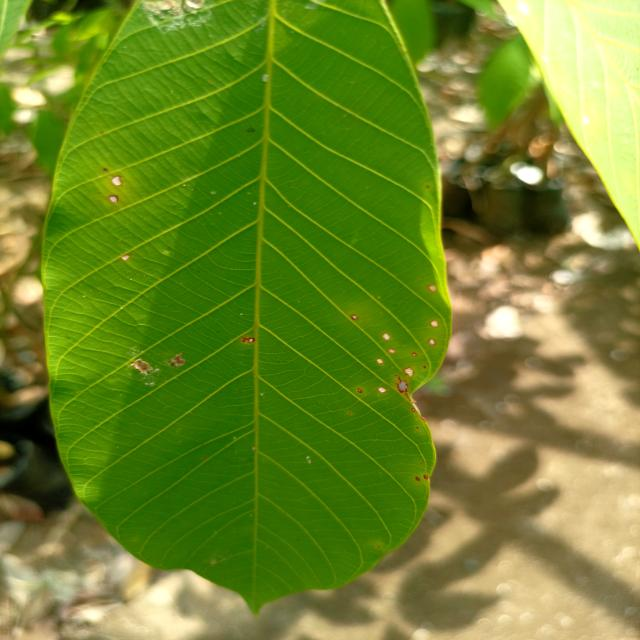Colletotrichum: (110, 175, 122, 186), (108, 195, 118, 203), (404, 367, 414, 375), (427, 285, 437, 292), (428, 338, 436, 346), (430, 320, 438, 327), (382, 333, 390, 340), (121, 254, 130, 260), (388, 348, 396, 354), (378, 387, 386, 393), (351, 314, 358, 320), (376, 358, 383, 364), (248, 338, 255, 343), (415, 476, 420, 481), (358, 388, 362, 393), (423, 475, 428, 479), (411, 408, 415, 412), (412, 353, 417, 356)
